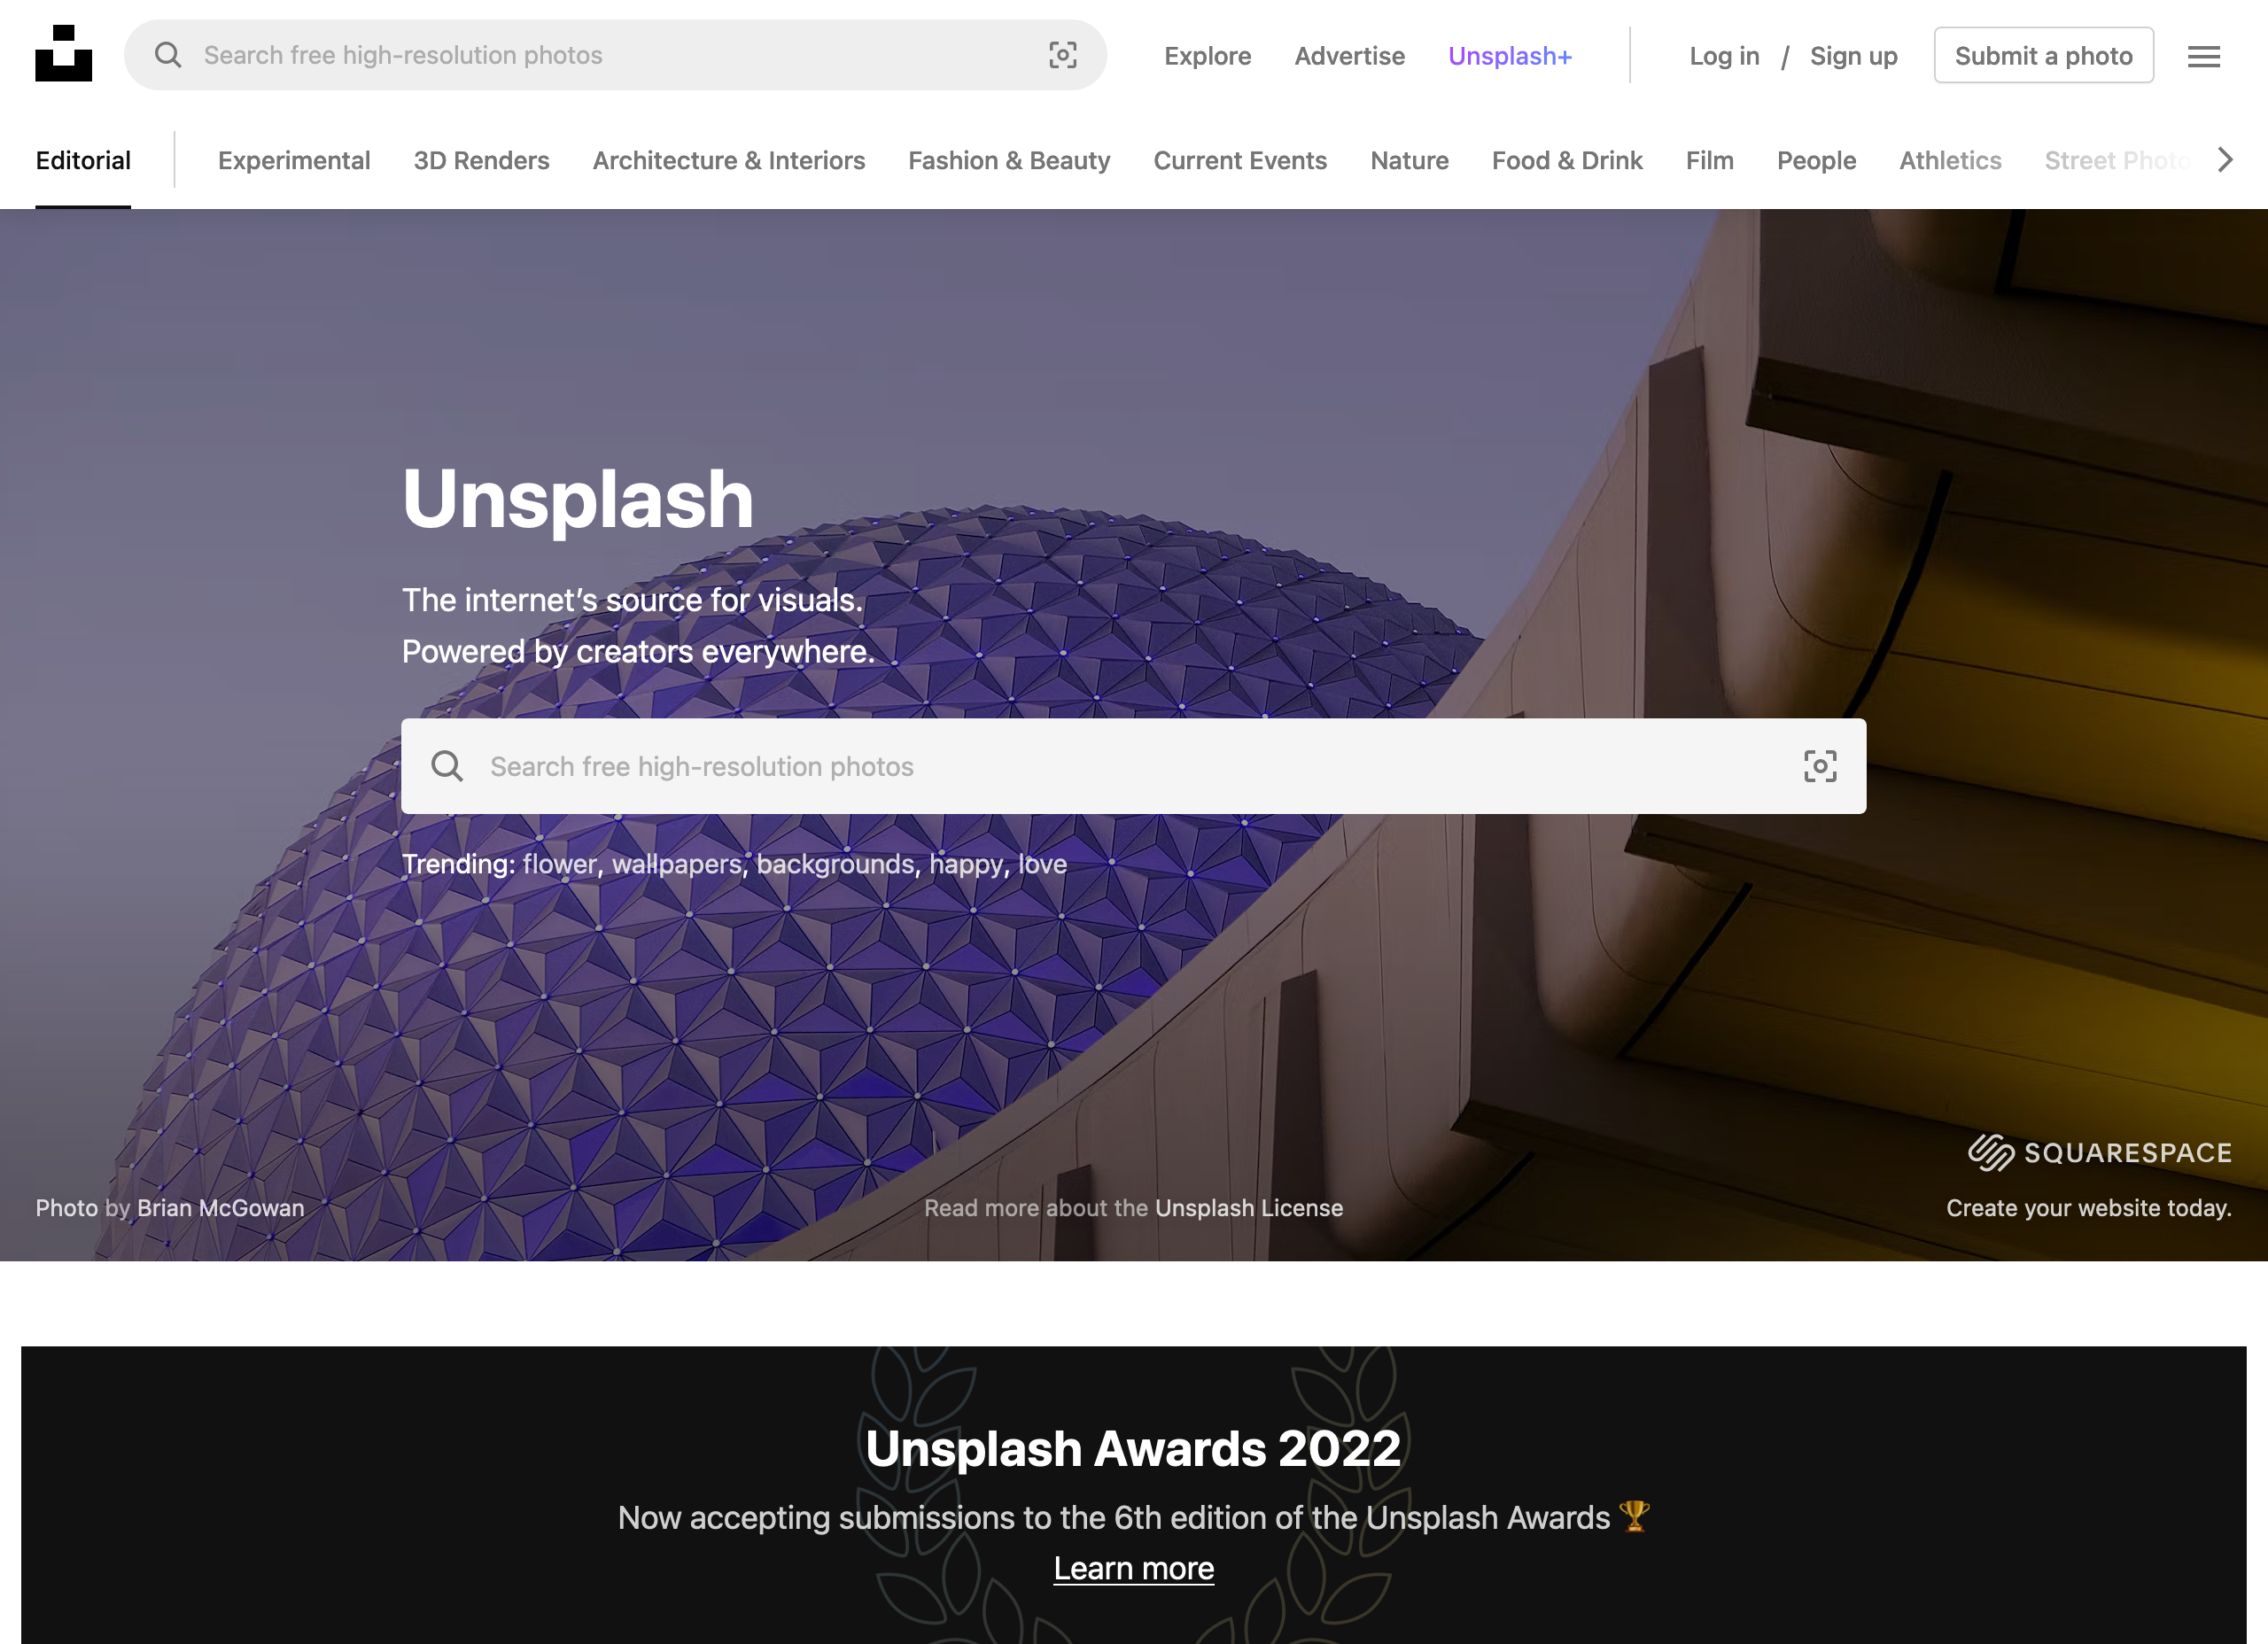Login: (1669, 30, 1771, 81)
